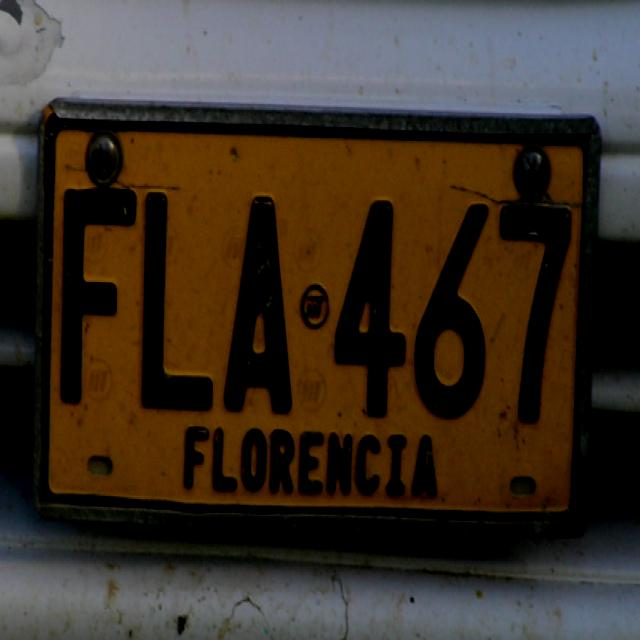placa: (28, 88, 604, 555)
